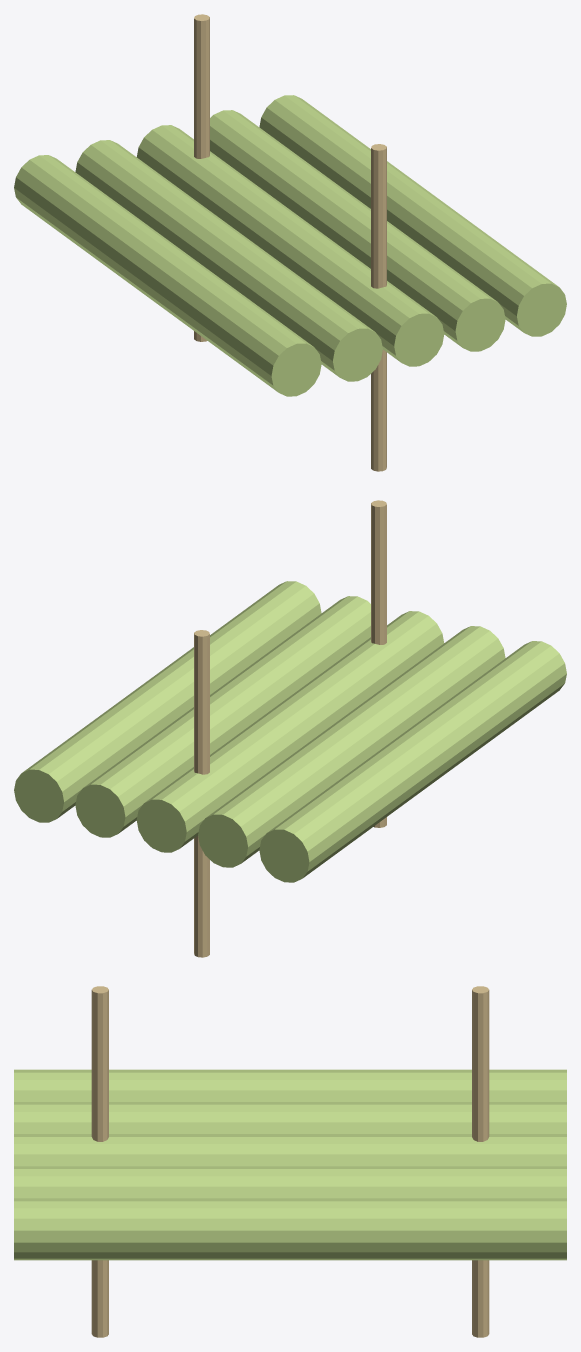
File: bamboo_raft.fbx
3 views of the same model, one above another, from view 1: azimuth 30°, elevation 25°; view 2: azimuth 150°, elevation 25°; view 3: azimuth 270°, elevation 25° (orthographic). The views are drawn at different scales.
Visible parts, largest first — view 1: BambooRaft; view 2: BambooRaft; view 3: BambooRaft.
Boxes of the visible parts, x1,y1,x2,y2 form: BambooRaft: [14, 14, 566, 471]; BambooRaft: [14, 500, 566, 957]; BambooRaft: [14, 986, 566, 1337].
Size of the model in its own units: 1.06 by 1.1 by 1.6.
